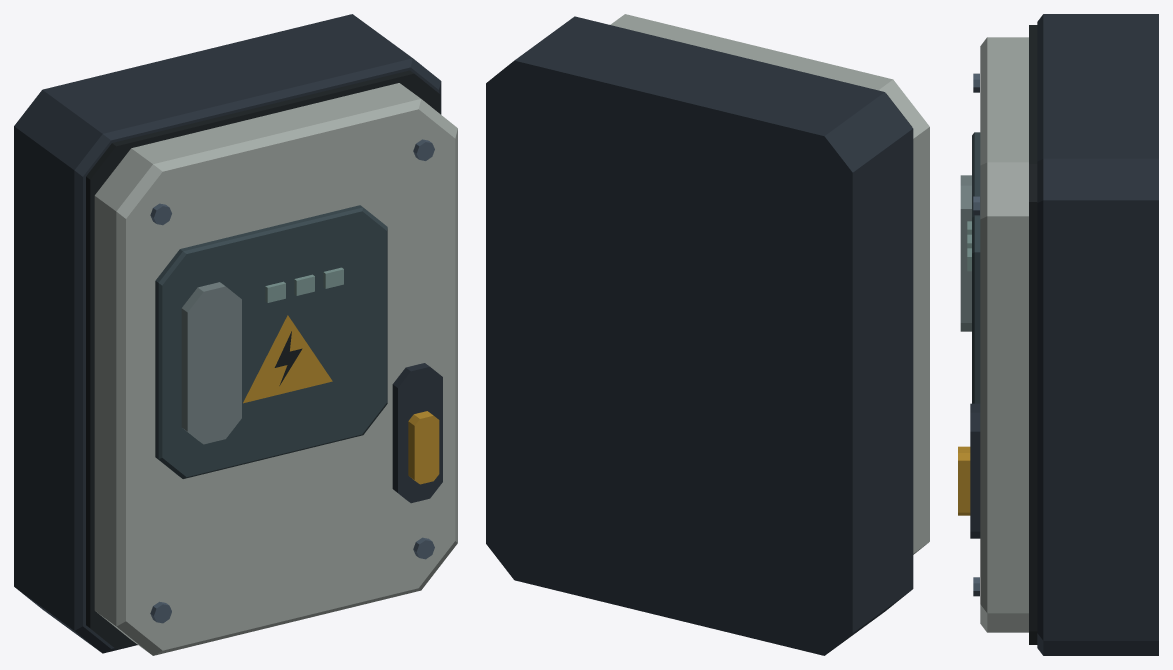
File: K-03_electrical_cabinet.glb
The picture shows the model from 3 angles, left to right: view 1: azimuth 30°, elevation 25°; view 2: azimuth 150°, elevation 25°; view 3: azimuth 270°, elevation 25°; orthographic projection. The views are drawn at different scales.
Visible parts, largest first — view 1: K-03_electrical_cabinet; view 2: K-03_electrical_cabinet; view 3: K-03_electrical_cabinet.
Part boxes in pixels (bbox=[...]): K-03_electrical_cabinet: bbox=[14, 14, 457, 655]; K-03_electrical_cabinet: bbox=[486, 14, 929, 655]; K-03_electrical_cabinet: bbox=[958, 14, 1158, 655].
Size of the model in its own units: 0.48 by 0.65 by 0.238.
